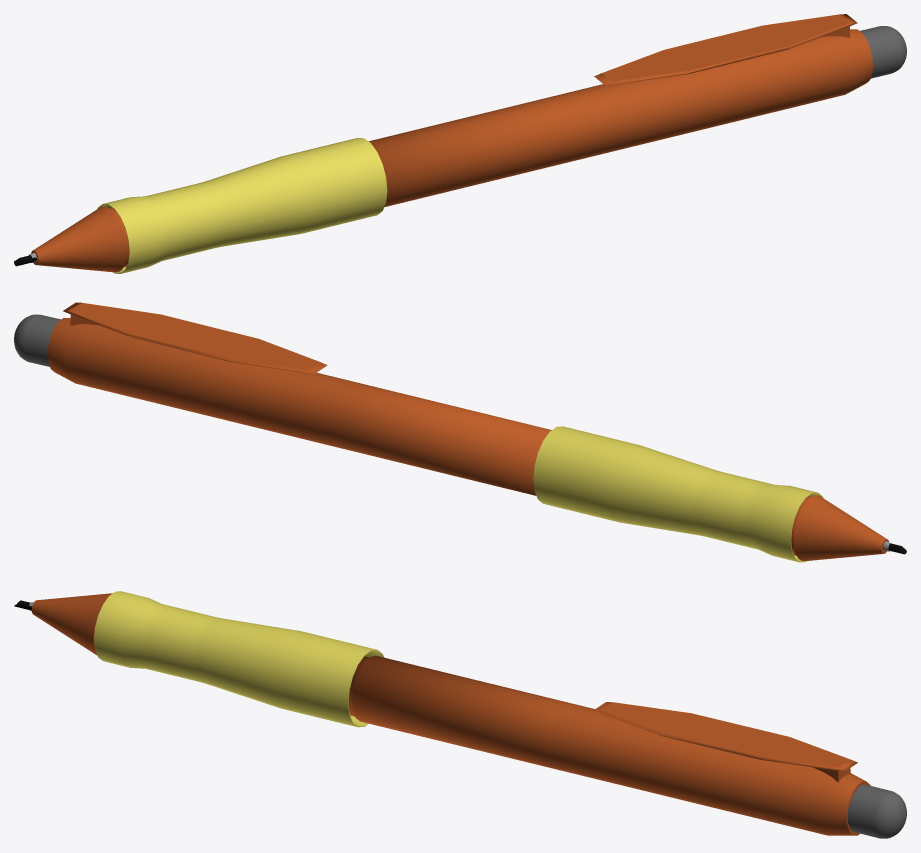
File: pen_one.FBX
3 renders of one model, top to bottom at view 1: azimuth 30°, elevation 25°; view 2: azimuth 150°, elevation 25°; view 3: azimuth 330°, elevation 25°, orthographic.
Parts seen in each view (by area): view 1: Cone001, Tube002, Capsule002; view 2: Cone001, Tube002, Capsule002; view 3: Cone001, Tube002, Capsule002.
Part boxes in pixels (x1,y1,x2,y2): Cone001: [31, 14, 872, 272]; Tube002: [97, 138, 387, 273]; Capsule002: [860, 26, 906, 78]; Cone001: [47, 302, 888, 560]; Tube002: [533, 426, 823, 562]; Capsule002: [14, 314, 60, 366]; Cone001: [31, 593, 870, 835]; Tube002: [94, 591, 384, 727]; Capsule002: [847, 784, 906, 838].
Bounding box in the file's own units: 136 × 11.35 × 10.52.
